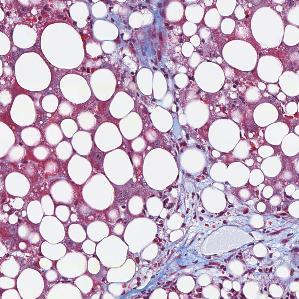fibrosis: (172, 211, 294, 277)
